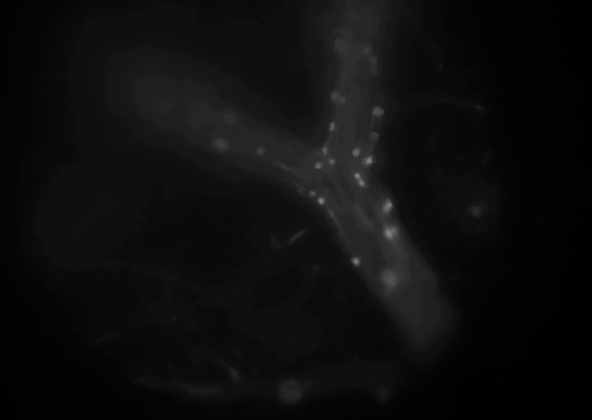cell: (370, 105, 384, 119), (350, 145, 364, 159), (363, 153, 377, 167), (315, 143, 329, 157), (311, 158, 325, 172), (325, 155, 339, 169), (326, 92, 340, 106), (351, 169, 365, 183), (337, 93, 351, 107), (353, 176, 367, 190), (349, 254, 363, 268), (383, 272, 397, 286), (382, 224, 396, 238), (381, 196, 395, 210), (389, 225, 403, 239), (378, 200, 392, 214), (312, 194, 326, 208), (305, 187, 319, 201), (253, 146, 267, 160), (212, 139, 226, 153), (359, 43, 373, 57), (367, 54, 381, 68), (334, 40, 348, 54), (369, 128, 383, 142), (224, 111, 238, 125), (324, 119, 338, 133)
